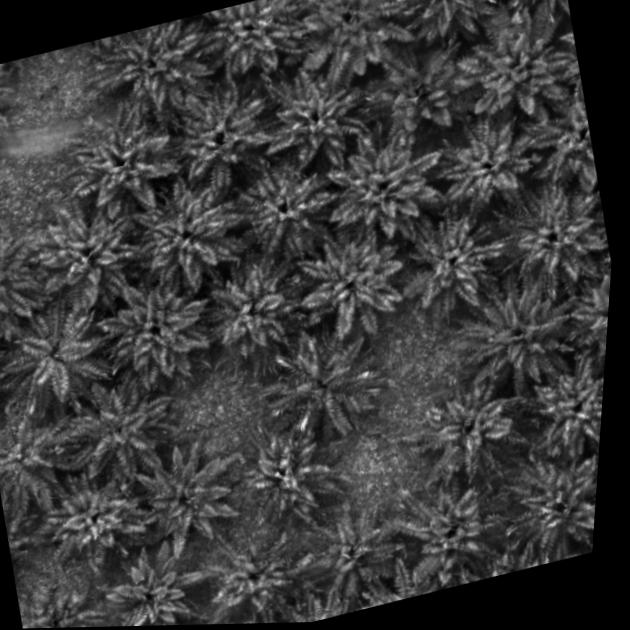oilpalm: (442, 0, 589, 132), (246, 46, 387, 177), (54, 97, 190, 230), (314, 121, 451, 253), (48, 369, 187, 493), (260, 320, 392, 450), (286, 215, 412, 351), (95, 265, 223, 394), (449, 275, 582, 396), (386, 204, 508, 334), (0, 289, 122, 418), (22, 196, 148, 318), (125, 168, 246, 295), (401, 375, 530, 494), (490, 171, 613, 295), (219, 150, 342, 266), (421, 112, 536, 230), (166, 78, 279, 193), (34, 466, 147, 579), (131, 437, 239, 554), (227, 428, 338, 531), (397, 480, 505, 585), (194, 263, 303, 366), (88, 540, 216, 627), (105, 14, 213, 116), (513, 352, 606, 470), (370, 47, 467, 147), (0, 396, 79, 514), (506, 458, 599, 555), (308, 512, 399, 600), (209, 537, 298, 624), (0, 213, 49, 332), (13, 571, 113, 629)
